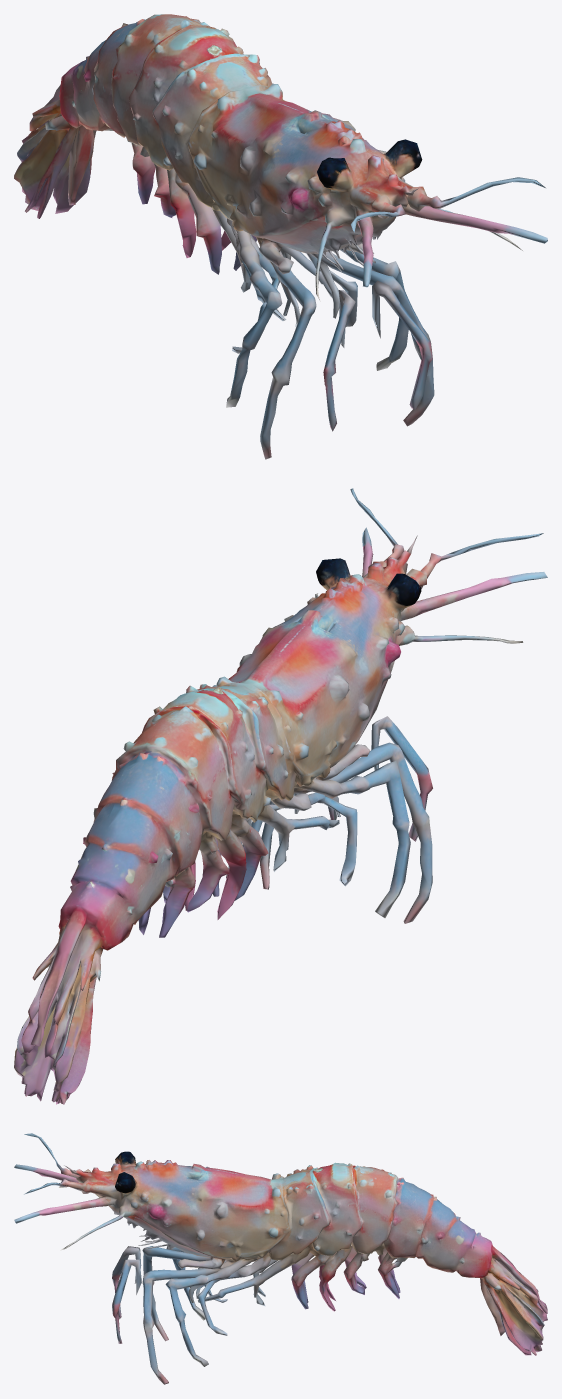
Rendered from shrimp.glb.
3 views of the same model, one above another, from view 1: azimuth 30°, elevation 25°; view 2: azimuth 150°, elevation 25°; view 3: azimuth 270°, elevation 25° (orthographic). The views are drawn at different scales.
Parts seen in each view (by area): view 1: tripo_node_5eca592a-ec76-4105-a9d5-4f85de830249; view 2: tripo_node_5eca592a-ec76-4105-a9d5-4f85de830249; view 3: tripo_node_5eca592a-ec76-4105-a9d5-4f85de830249.
Part boxes in pixels (bbox=[...]): tripo_node_5eca592a-ec76-4105-a9d5-4f85de830249: bbox=[14, 14, 547, 459]; tripo_node_5eca592a-ec76-4105-a9d5-4f85de830249: bbox=[14, 488, 547, 1104]; tripo_node_5eca592a-ec76-4105-a9d5-4f85de830249: bbox=[14, 1133, 547, 1384].
Size of the model in its own units: 0.2795 by 0.4169 by 1.
Materials: 1 (1 with a texture image).
